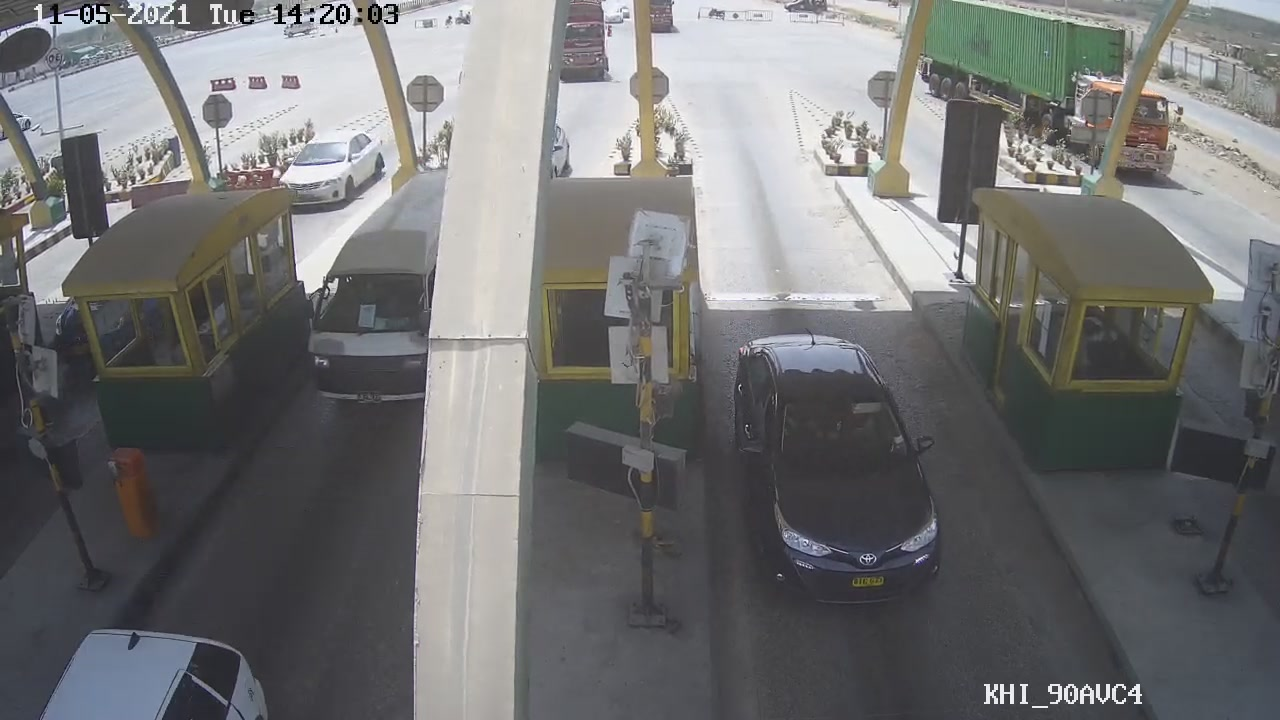F1: (719, 330, 951, 605)
